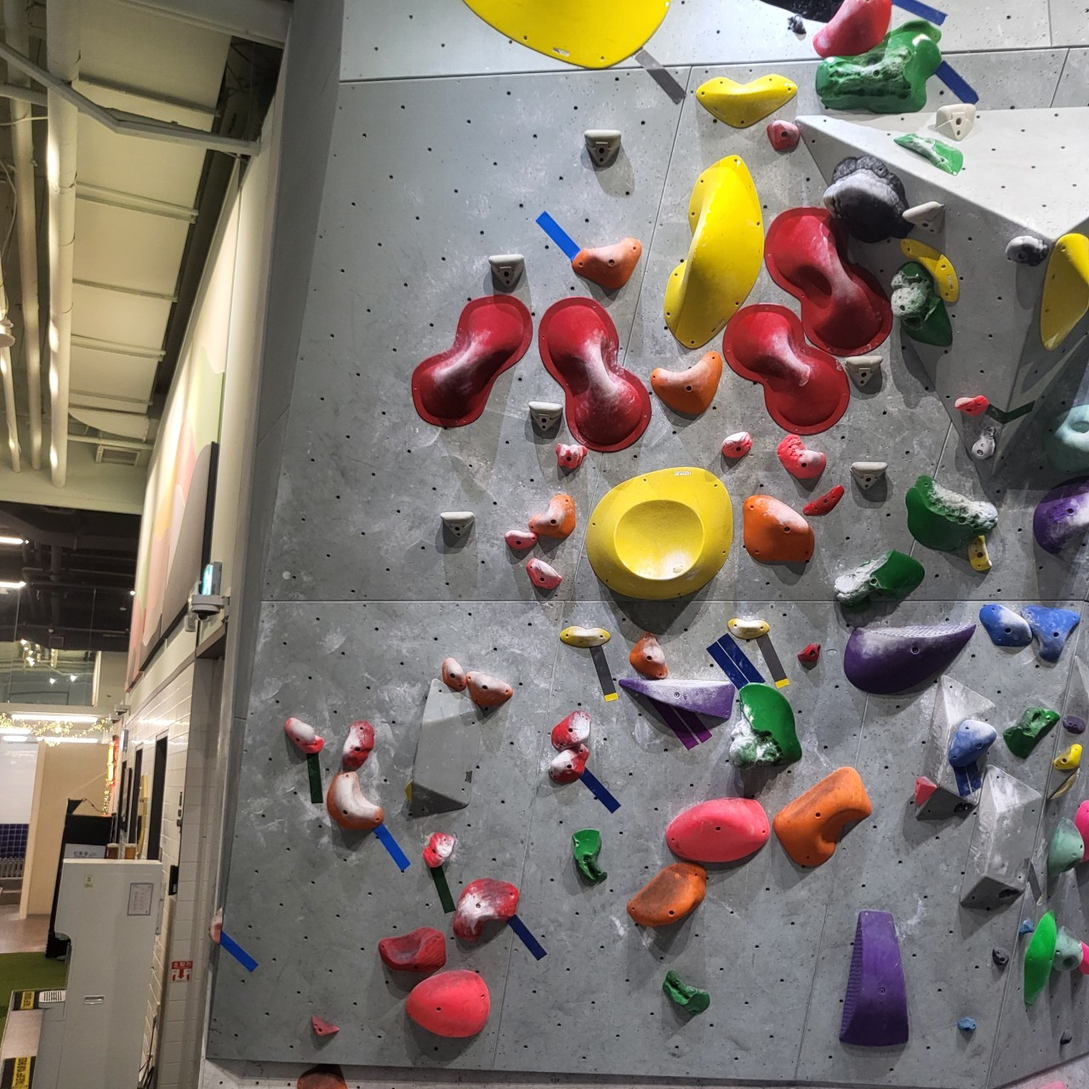hold: (665, 156, 764, 348), (587, 469, 732, 600), (766, 208, 891, 355), (539, 297, 651, 451), (724, 305, 848, 433), (413, 295, 532, 427), (467, 0, 667, 68), (816, 20, 941, 112), (774, 767, 870, 867), (840, 911, 908, 1046), (845, 624, 974, 693), (824, 156, 906, 242), (907, 475, 998, 551), (666, 798, 770, 864), (731, 683, 801, 767), (1041, 234, 1088, 350), (407, 971, 489, 1037), (697, 74, 795, 127), (617, 677, 733, 721), (836, 550, 925, 607), (628, 864, 706, 927), (892, 264, 952, 345), (744, 495, 814, 564), (813, 0, 892, 58), (651, 353, 721, 416), (453, 879, 518, 940), (1035, 480, 1088, 554), (573, 237, 641, 289), (1022, 605, 1080, 664), (903, 240, 958, 301), (326, 773, 383, 830), (1044, 406, 1088, 475), (1024, 914, 1058, 1003), (380, 928, 445, 971), (1004, 707, 1058, 757), (896, 134, 963, 173), (949, 718, 997, 767), (980, 604, 1033, 646), (778, 436, 825, 482), (528, 493, 575, 539), (664, 972, 710, 1014), (1048, 824, 1083, 875), (468, 672, 512, 707), (574, 830, 603, 882), (343, 721, 374, 769), (584, 129, 622, 168), (552, 710, 590, 749), (547, 746, 587, 783), (843, 356, 883, 393), (630, 637, 666, 678), (1007, 233, 1052, 265), (285, 718, 323, 755), (936, 105, 978, 138), (489, 254, 524, 293), (803, 484, 844, 516), (1053, 927, 1082, 971), (529, 401, 562, 437), (527, 558, 562, 589), (851, 463, 886, 494), (442, 512, 474, 544), (767, 121, 800, 151), (561, 627, 609, 647), (297, 1068, 345, 1088), (425, 834, 453, 867), (904, 202, 943, 225), (556, 442, 586, 470), (1053, 744, 1082, 771), (729, 619, 768, 639), (442, 658, 466, 690), (972, 428, 995, 461), (722, 433, 751, 459), (968, 538, 990, 572), (915, 778, 937, 807), (506, 530, 537, 550), (957, 396, 988, 414), (311, 1016, 338, 1036), (800, 643, 820, 664), (1064, 716, 1084, 733), (211, 911, 222, 941), (790, 16, 805, 36), (953, 801, 974, 813), (1080, 944, 1088, 974), (993, 949, 1007, 965), (959, 1018, 976, 1031), (405, 779, 413, 801), (1020, 921, 1034, 933), (1061, 1035, 1072, 1046)
volume: (797, 105, 1088, 482), (912, 675, 999, 821), (960, 766, 1045, 914), (407, 679, 482, 817)
